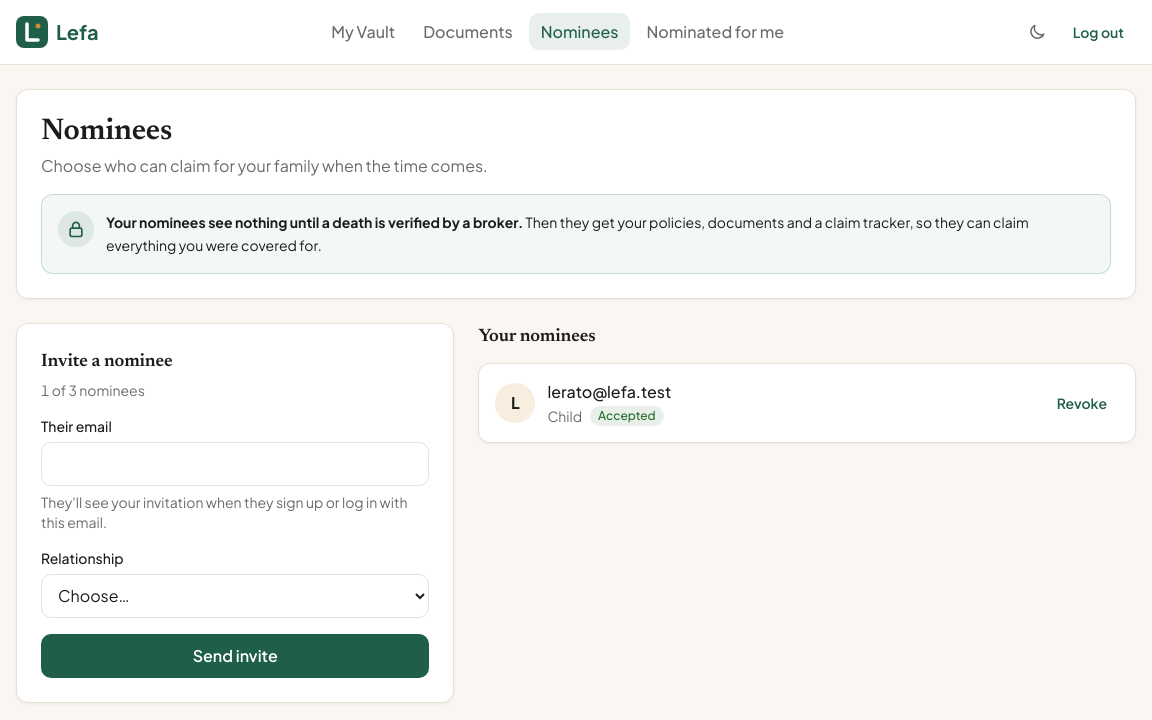
Nominees (S7) › revoke asks first; a revoked nominee can be re-invited
expect the text "Accepted" is shown: met, box [590,406,664,426]
Click the button with aria-label "Revoke lerato@lefa.test" at (1082, 402), box [1045,384,1119,420]
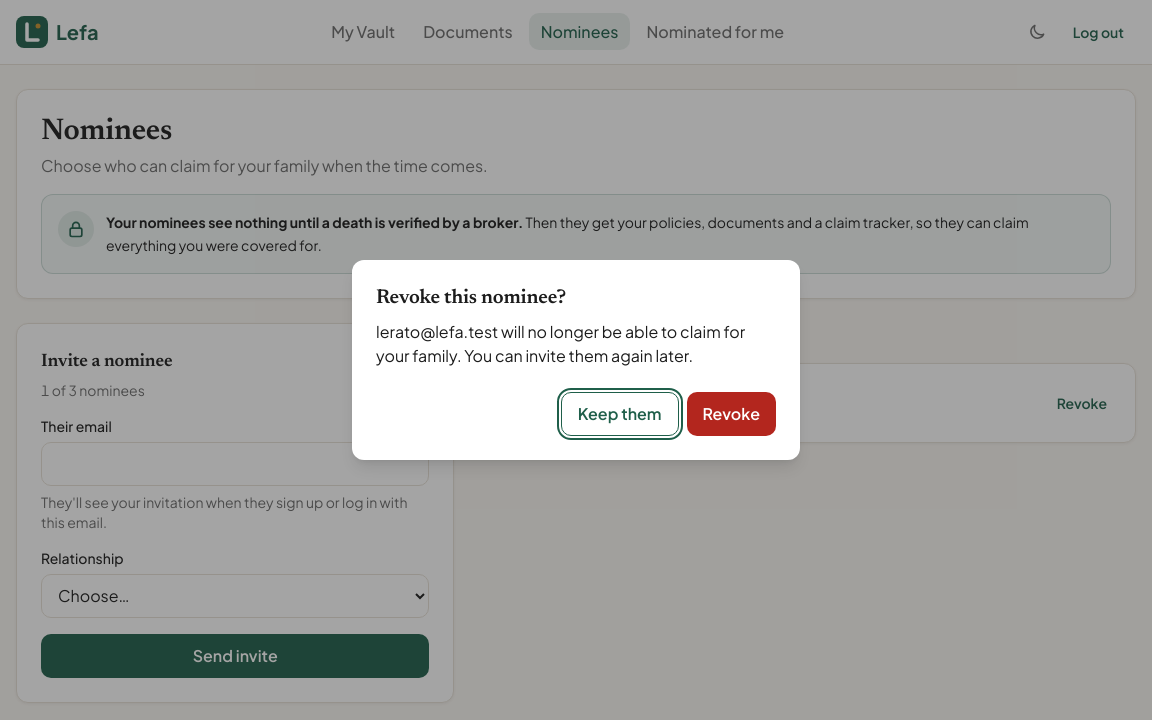
expect the text "will no longer be able to claim" is shown: met, box [376,321,745,366]
Click the button "Revoke" at (731, 414), box [686,392,776,436]
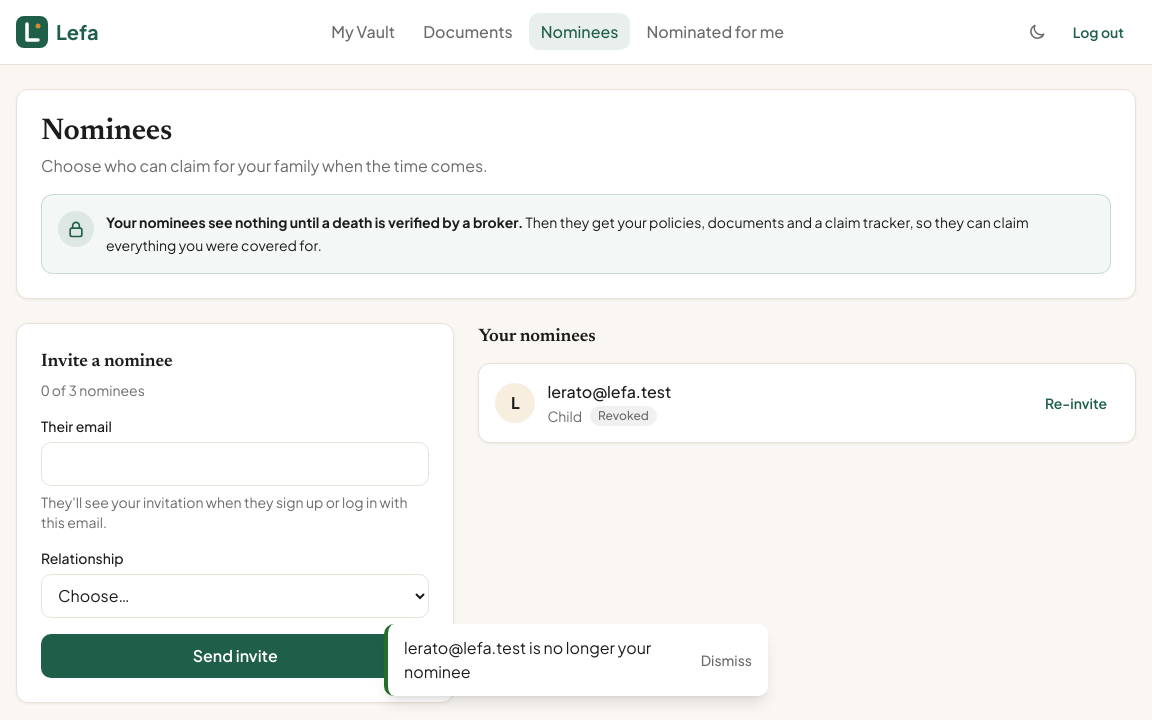
expect the text "Revoked" is shown: met, box [590,406,657,426]
Click the button with aria-label "Re-invite lerato@lefa.test" at (1076, 402), box [1033,384,1119,420]
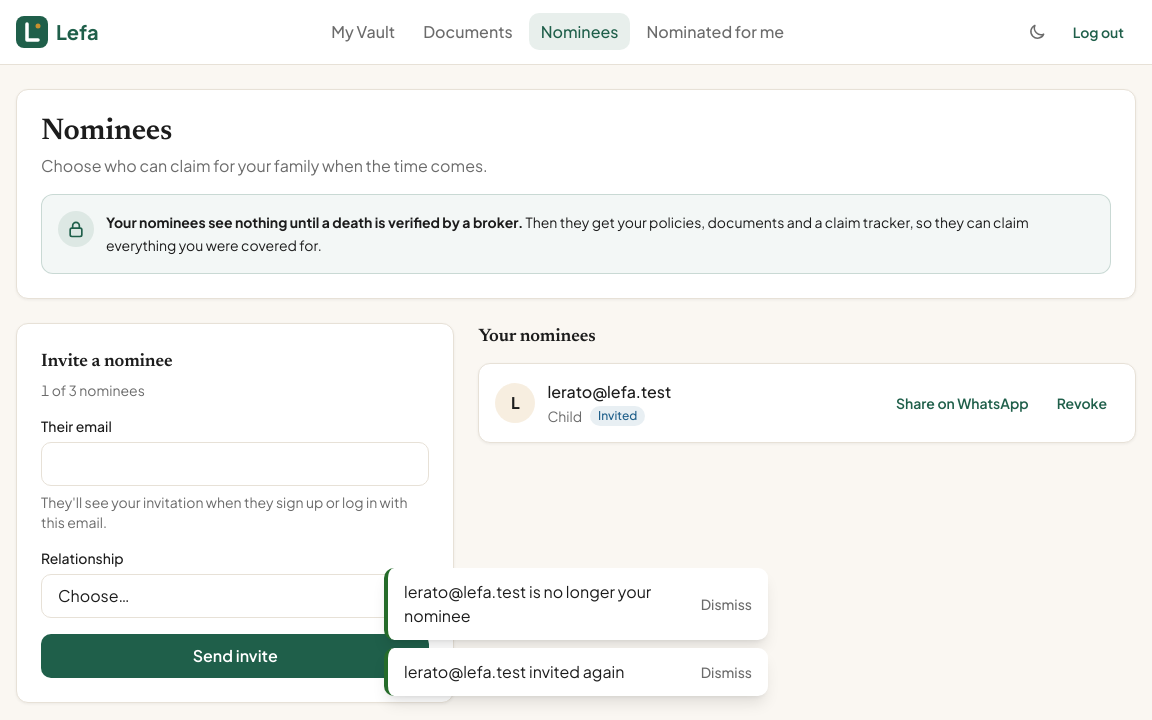
expect the text "Invited" is shown: met, box [590,406,645,426]
